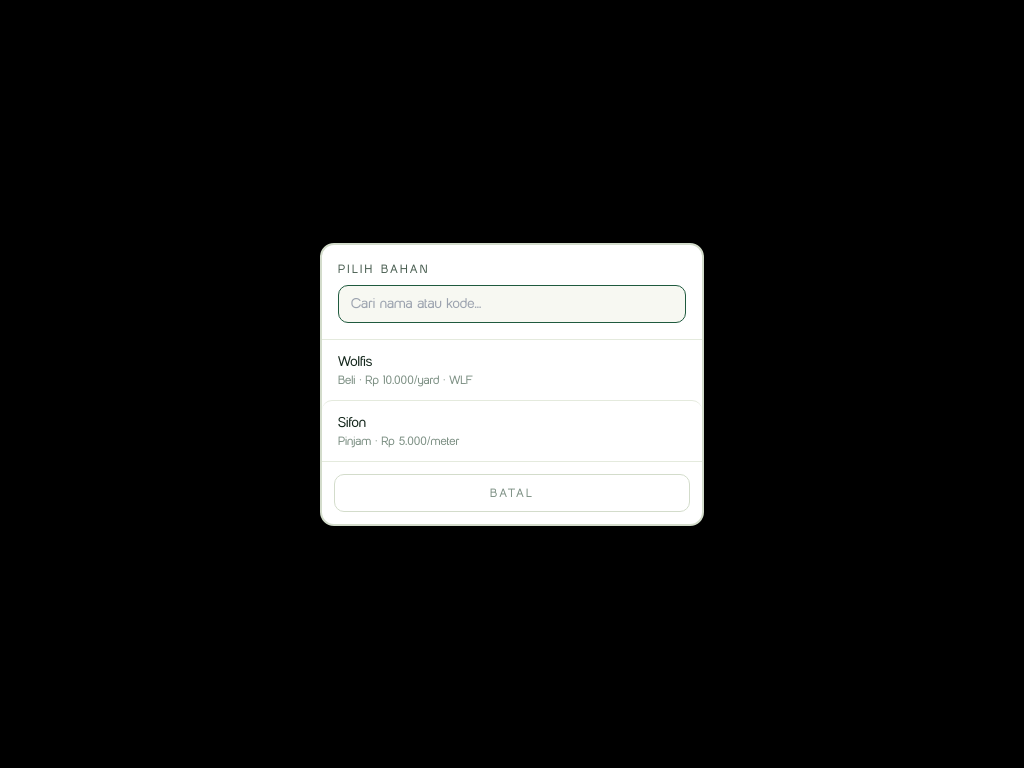
Test case: BahanPickerModal › shows empty state when no matches
Type "ZZZNOMATCH" into the field with placeholder "Cari nama atau kode...".
click(512, 304); type("ZZZNOMATCH")  # box [338,284,686,322]
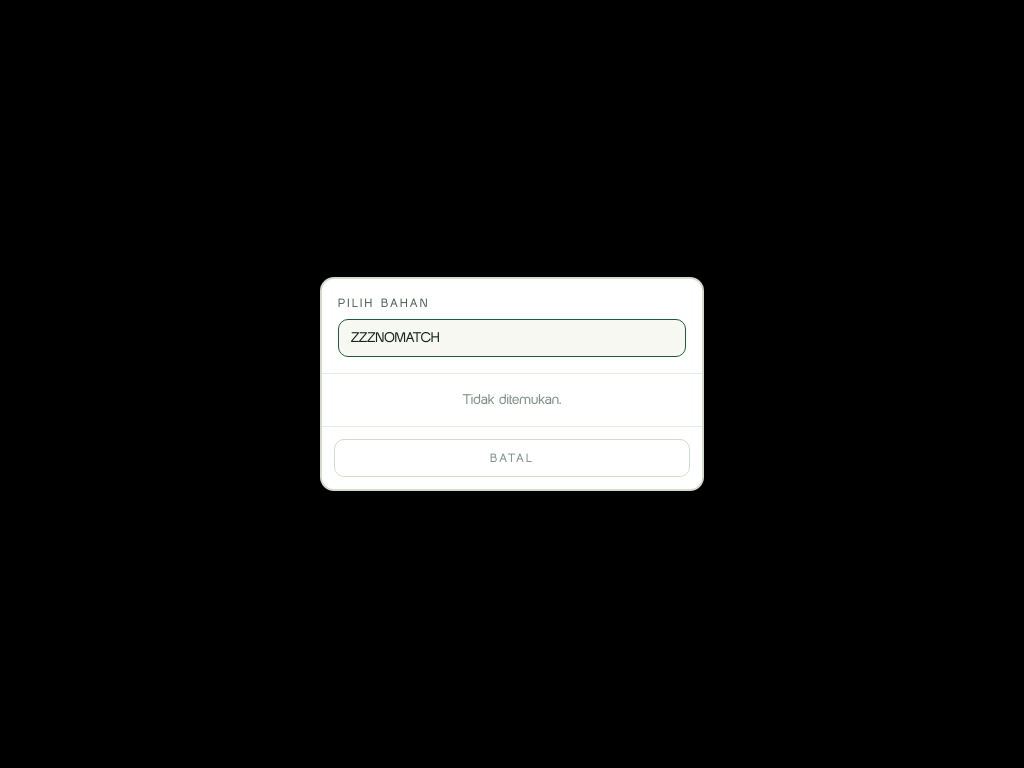
Now the text "Tidak ditemukan." is shown, box [463,391,561,408]
